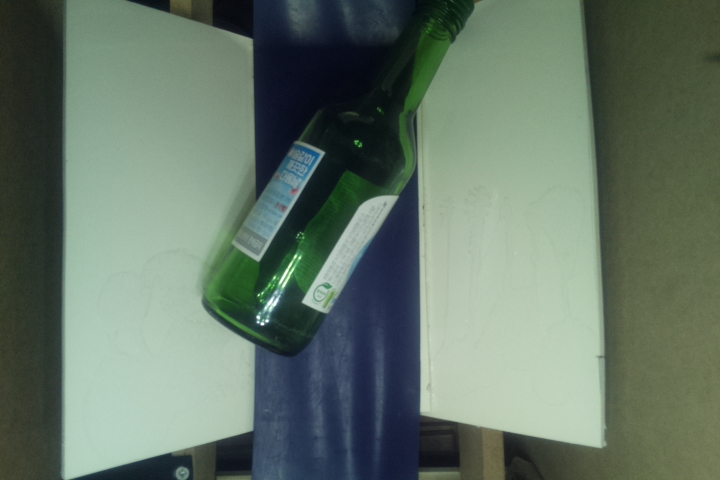soju: (203, 1, 481, 360)
